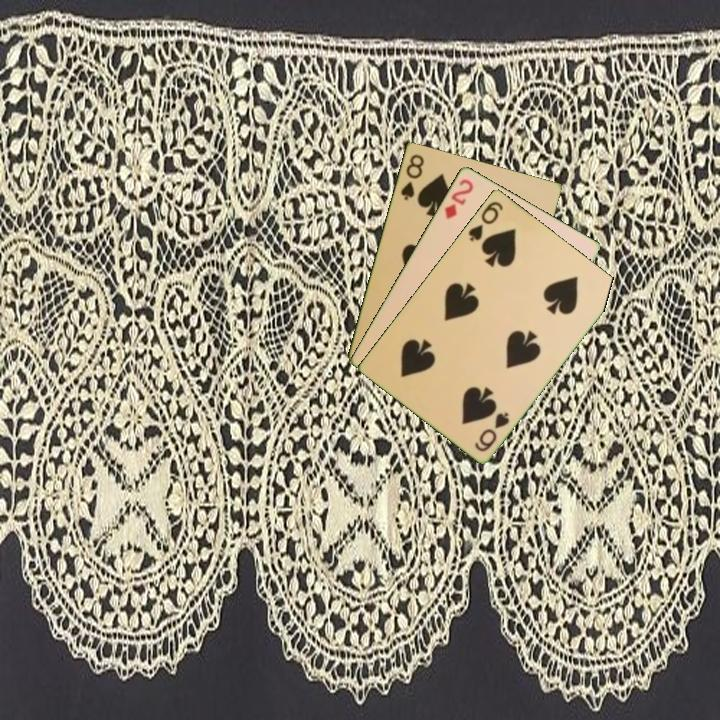2d: (441, 175, 476, 222)
6s: (464, 197, 506, 244), (471, 408, 512, 454)
8s: (397, 150, 427, 203)
